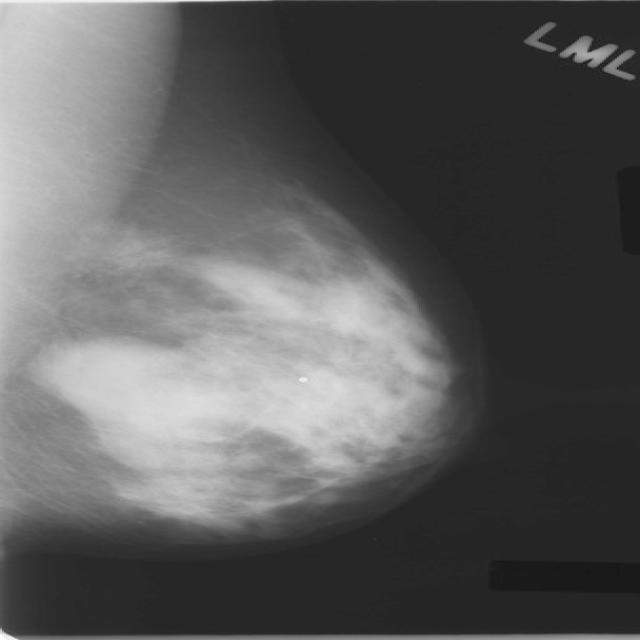tumour: (46, 342, 219, 436)
